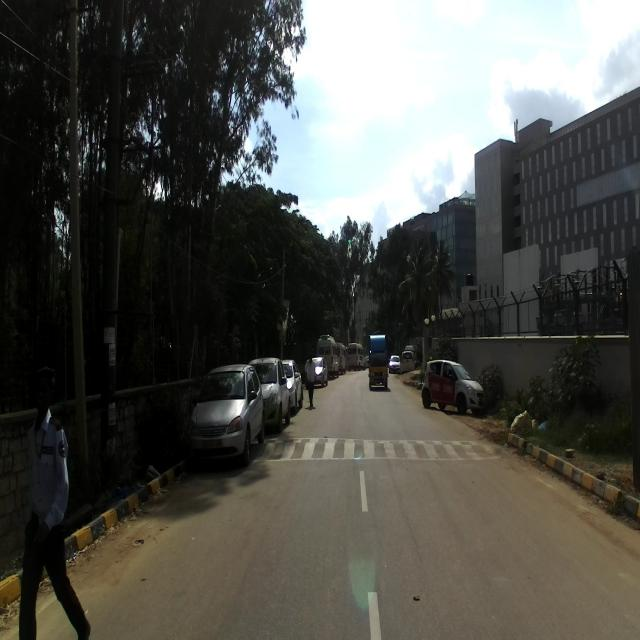Car_Maruti-Suzuki: (421, 358, 484, 415)
Car_TATA: (187, 362, 265, 470)
truck: (368, 330, 390, 393)
